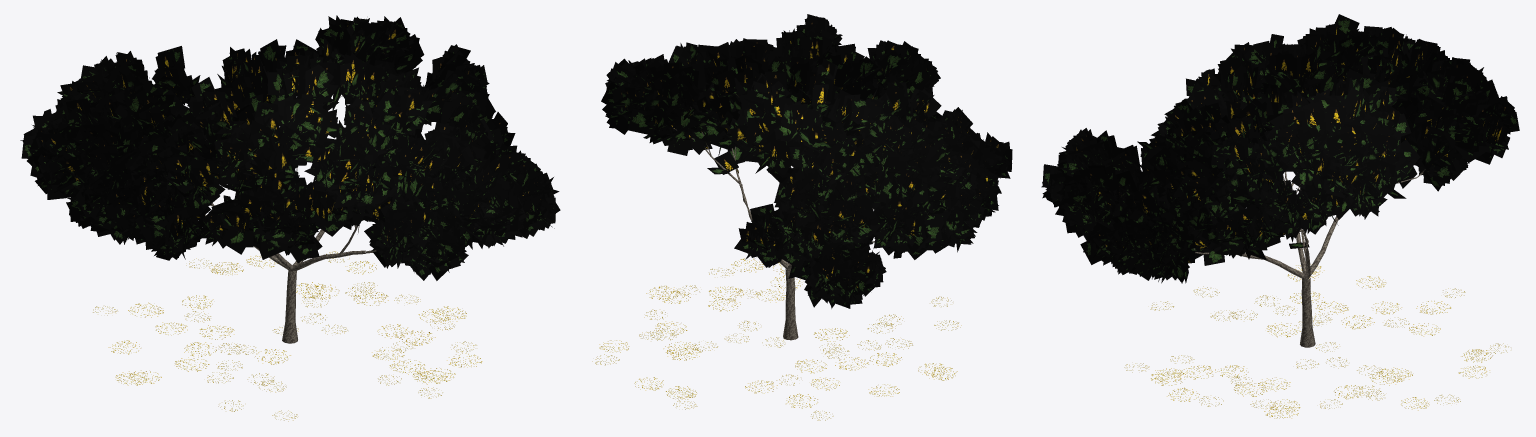
The model's file is sibipiruna_10anos.glb.
3 renders of one model, left to right at view 1: azimuth 30°, elevation 25°; view 2: azimuth 150°, elevation 25°; view 3: azimuth 270°, elevation 25°, orthographic. The views are drawn at different scales.
Parts seen in each view (by area): view 1: Sibipiruna; view 2: Sibipiruna; view 3: Sibipiruna.
Part boxes in pixels (x1,y1,x2,y2): Sibipiruna: (20, 15, 560, 421); Sibipiruna: (592, 14, 1012, 420); Sibipiruna: (1041, 14, 1519, 418).
Size of the model in its own units: 13.93 by 9 by 14.66.
3 materials, 3 textured.
